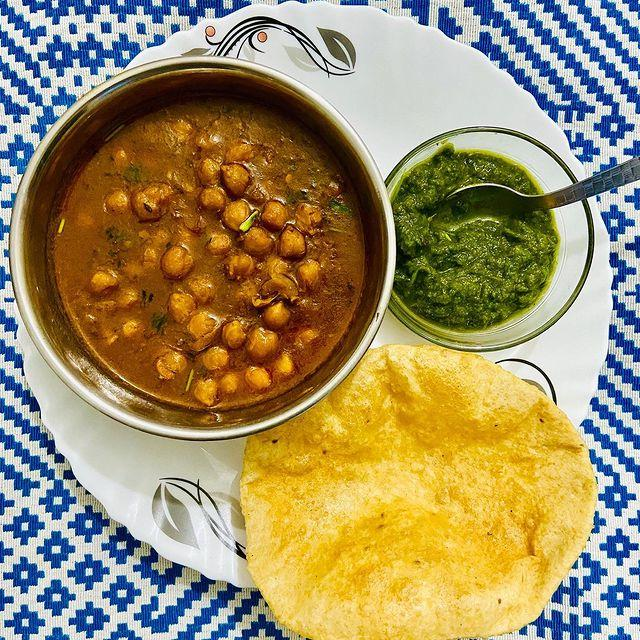Chole: (116, 150, 335, 404)
